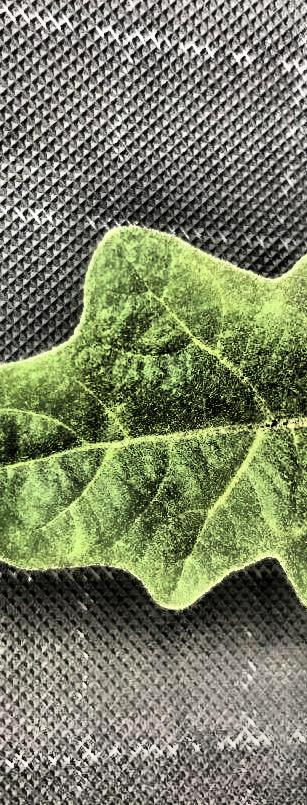HEALTHY: (78, 0, 307, 580)
